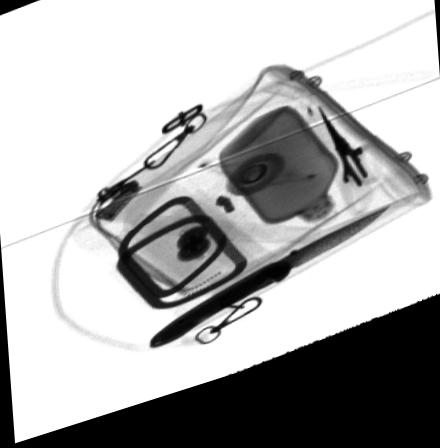Knife: (151, 230, 391, 358)
Scissors: (316, 126, 389, 240)
